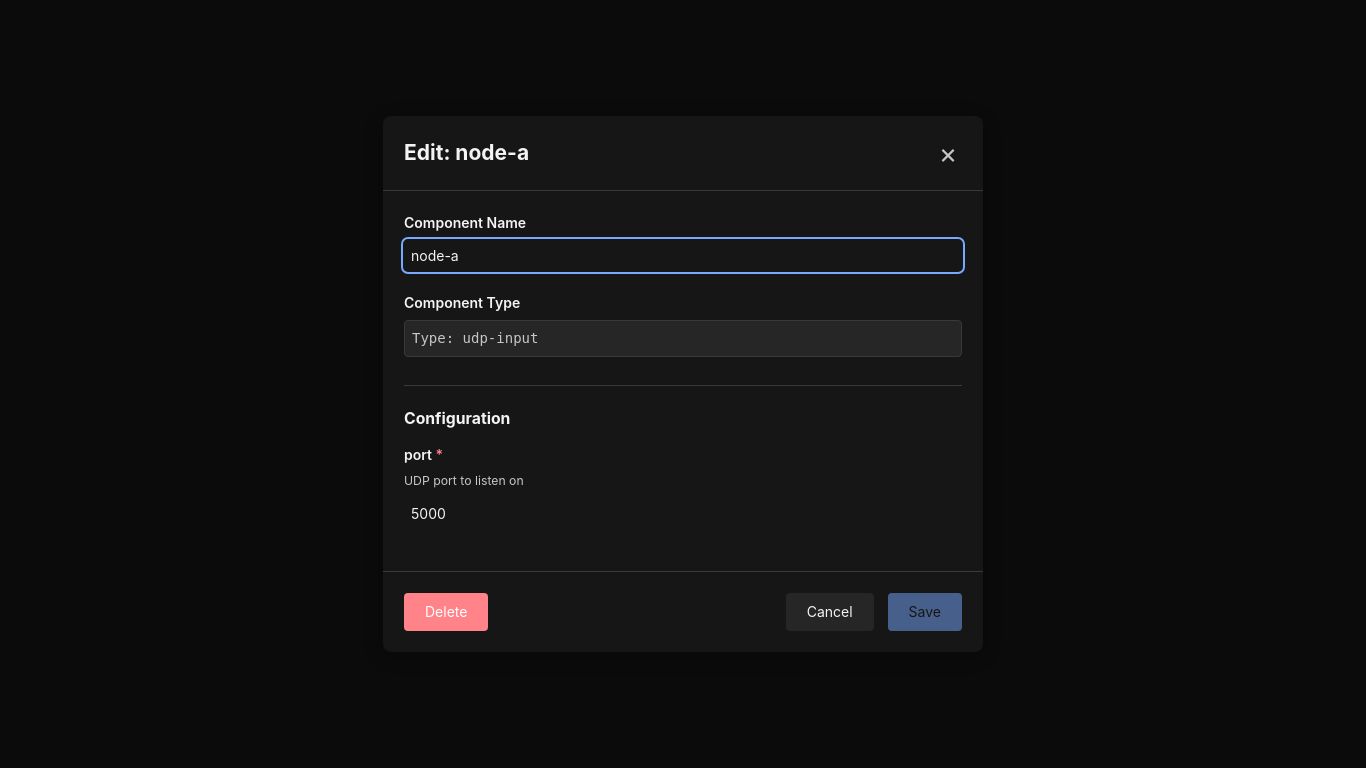
Scenario: EditComponentModal - Phase 3 gap: delete confirmation resets on node change › should dismiss delete confirmation dialog when the node prop changes
The image size is (1366, 768).
Click the button "Delete": coordinates (446, 612) [404, 593, 488, 631]
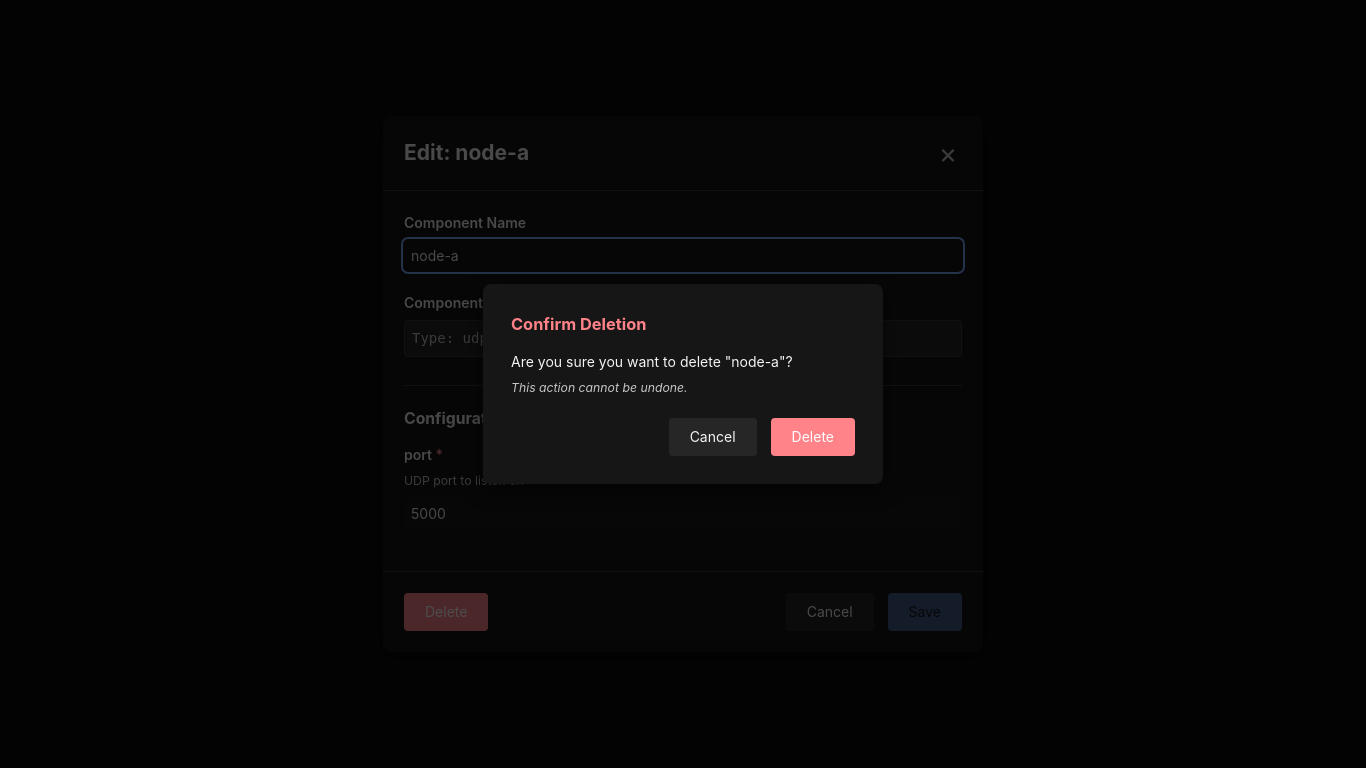
Expected: the dialog with class "confirm-dialog" is shown
